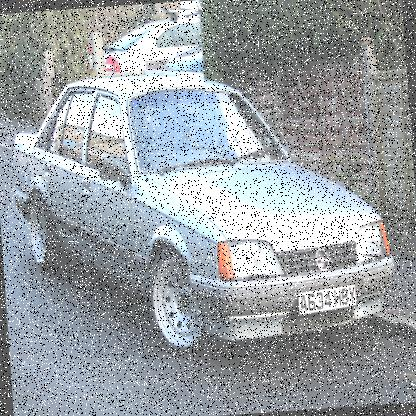Car: (7, 55, 398, 364), (87, 13, 204, 80), (144, 46, 208, 128)
